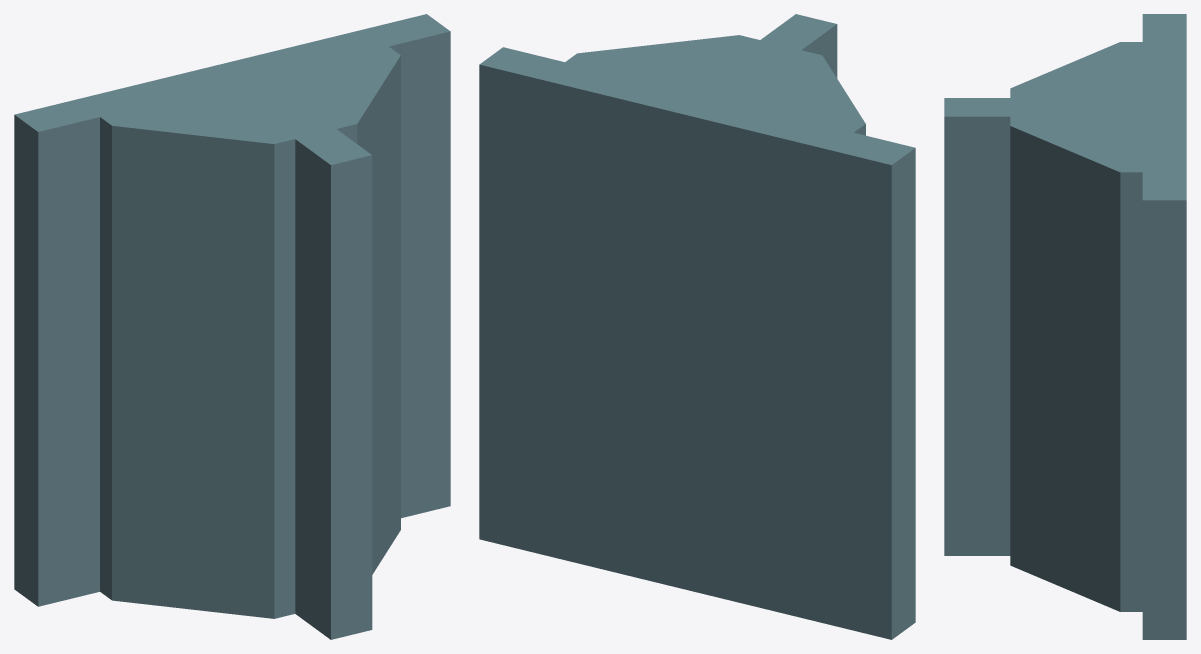
The model's file is W1_WallCorner_Angular2C.fbx.
3 renders of one model, left to right at view 1: azimuth 30°, elevation 25°; view 2: azimuth 150°, elevation 25°; view 3: azimuth 270°, elevation 25°, orthographic. The views are drawn at different scales.
Visible parts, largest first — view 1: W1_WallCorner_Angular2C.001; view 2: W1_WallCorner_Angular2C.001; view 3: W1_WallCorner_Angular2C.001.
Boxes of the visible parts, box(x1,y1,x2,y2) form: W1_WallCorner_Angular2C.001: box(14, 14, 450, 639); W1_WallCorner_Angular2C.001: box(479, 14, 915, 639); W1_WallCorner_Angular2C.001: box(944, 14, 1186, 639).
Size of the model in its own units: 2 by 2.2 by 1.1.
